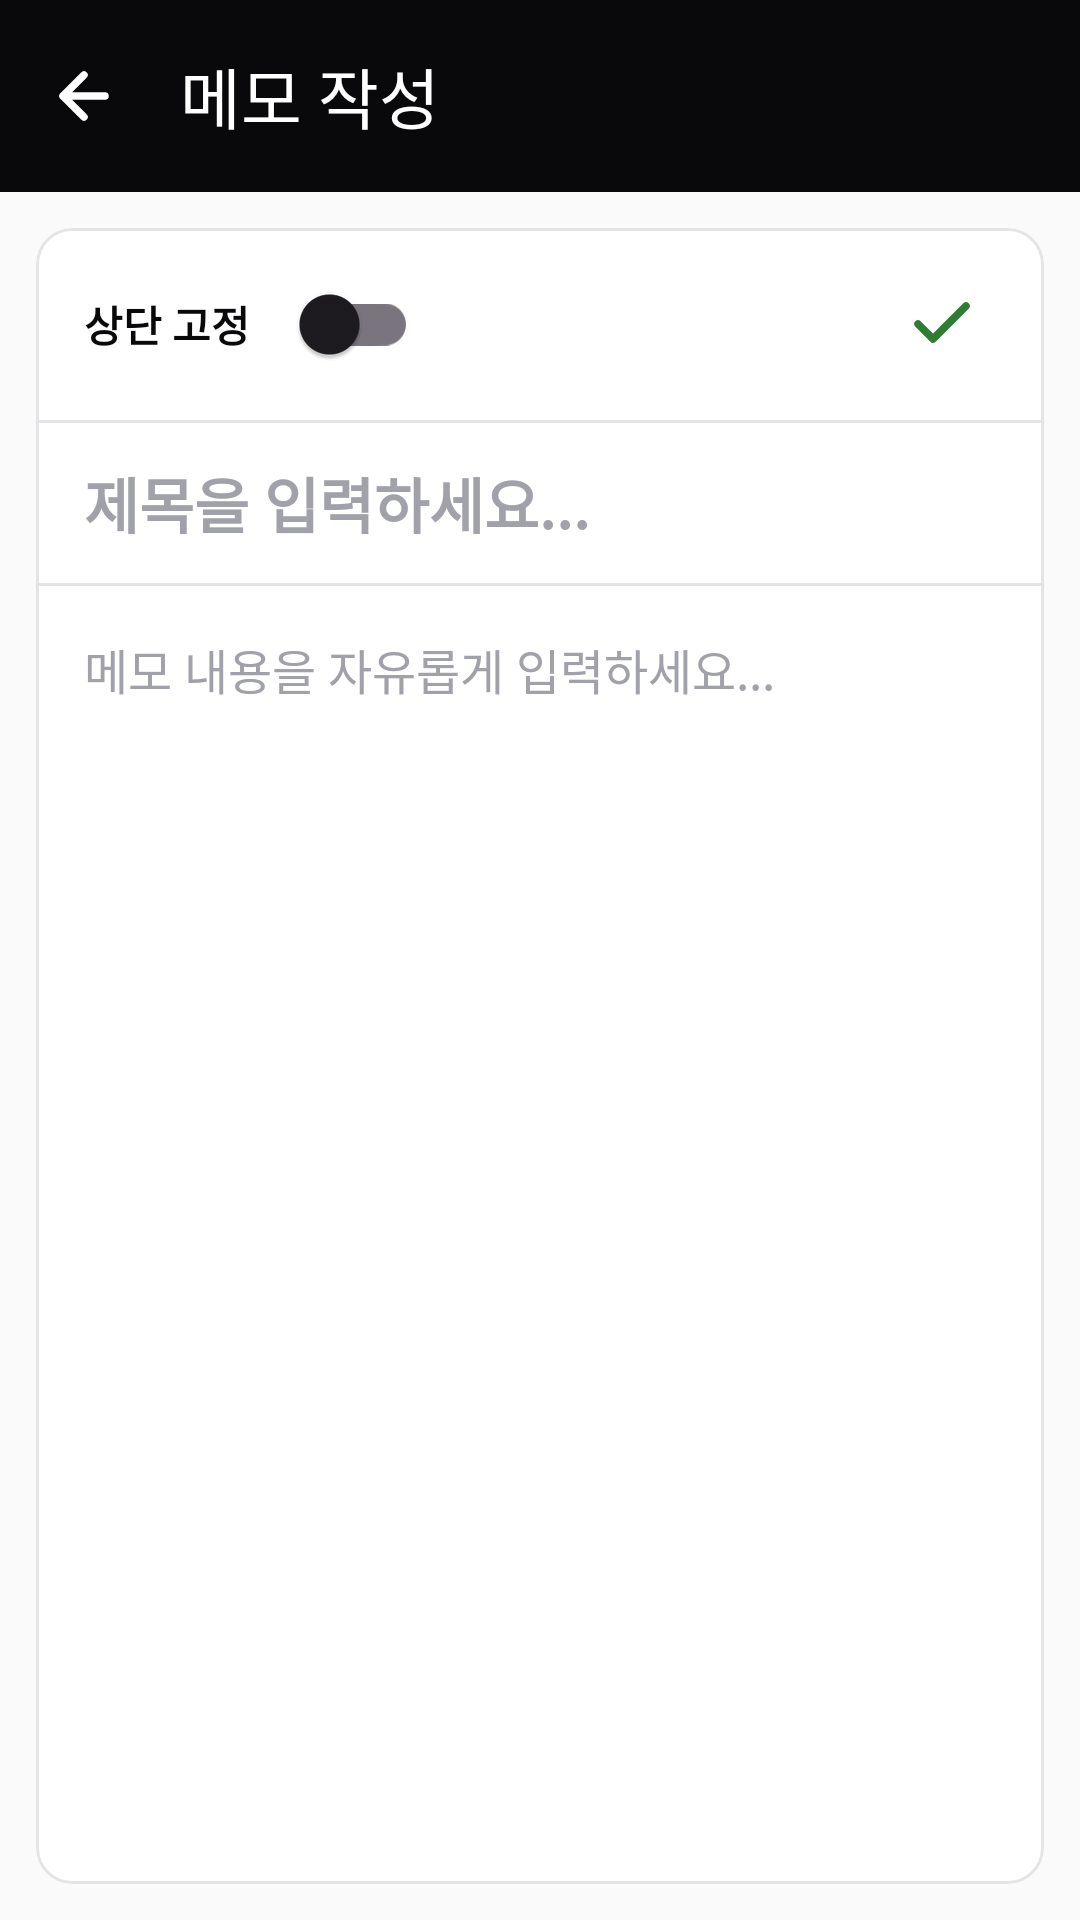

Icon click points for this 1080px×1920px phone screenshot, format (x=x, y=y):
저장: (x=942, y=322)
